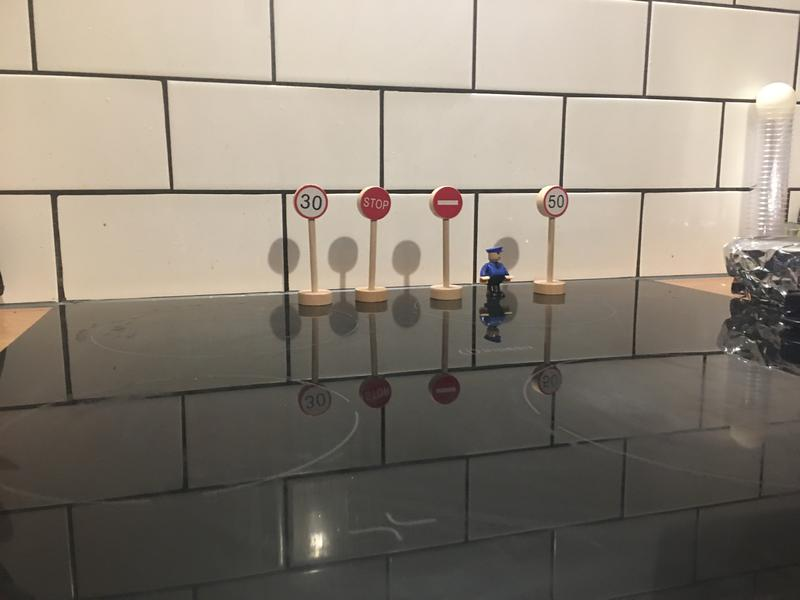Traffic_Sign_30: (295, 185, 327, 219)
Traffic_Sign_50: (543, 187, 569, 217)
Traffic_Sign_No_Entry: (433, 186, 462, 218)
Traffic_Sign_Stop: (361, 187, 392, 219)
person: (478, 244, 514, 298)
